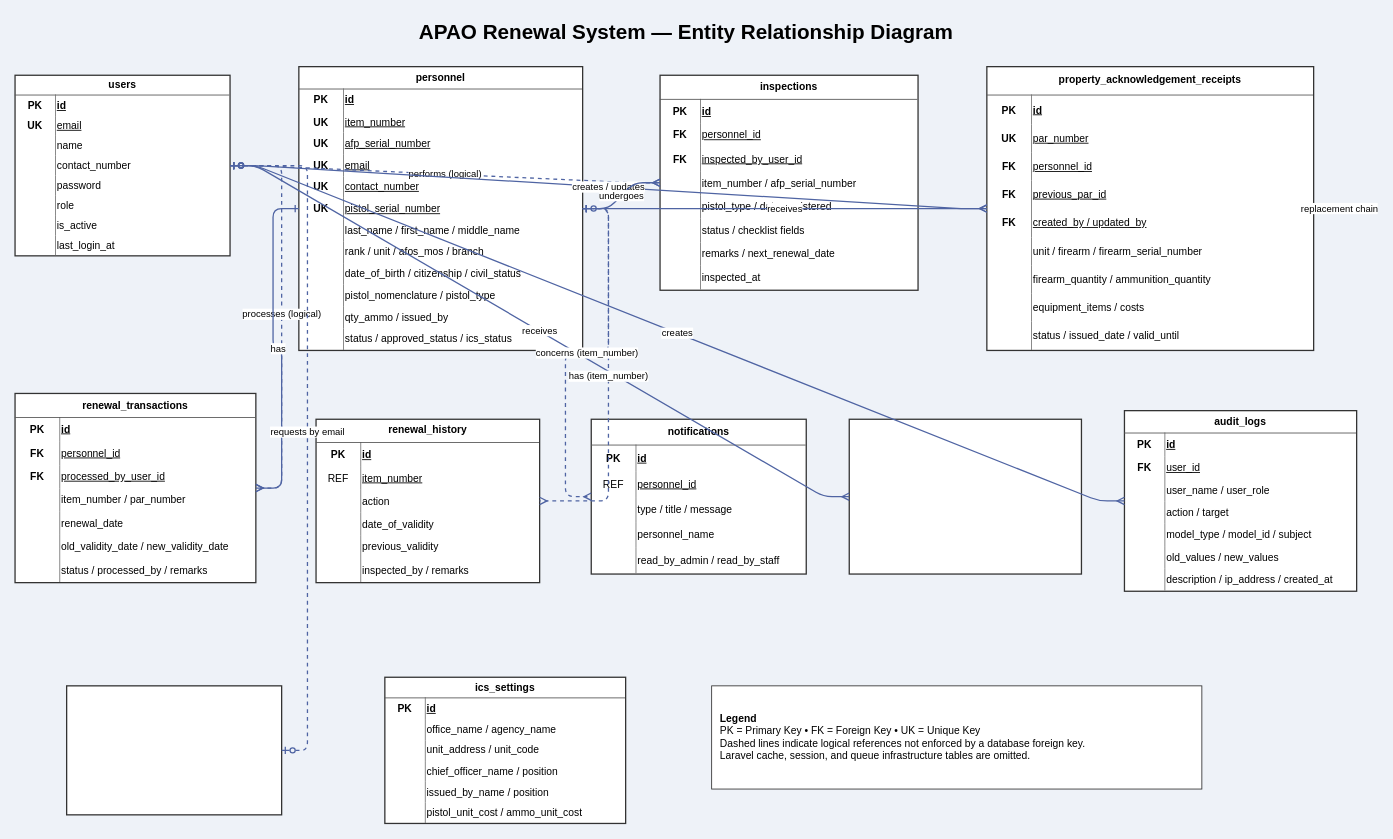
Some shapes in this 1393 by 839 pixel diagram are drawn without their labels. Here are the shapes that lost their labels. From the top down, the centre of each, then its label:
At (965,496): "personnel_notifications PK id FK user_id title / message type read".
At (174,750): "password_resets_otp PK email otp expires_at created_at".
